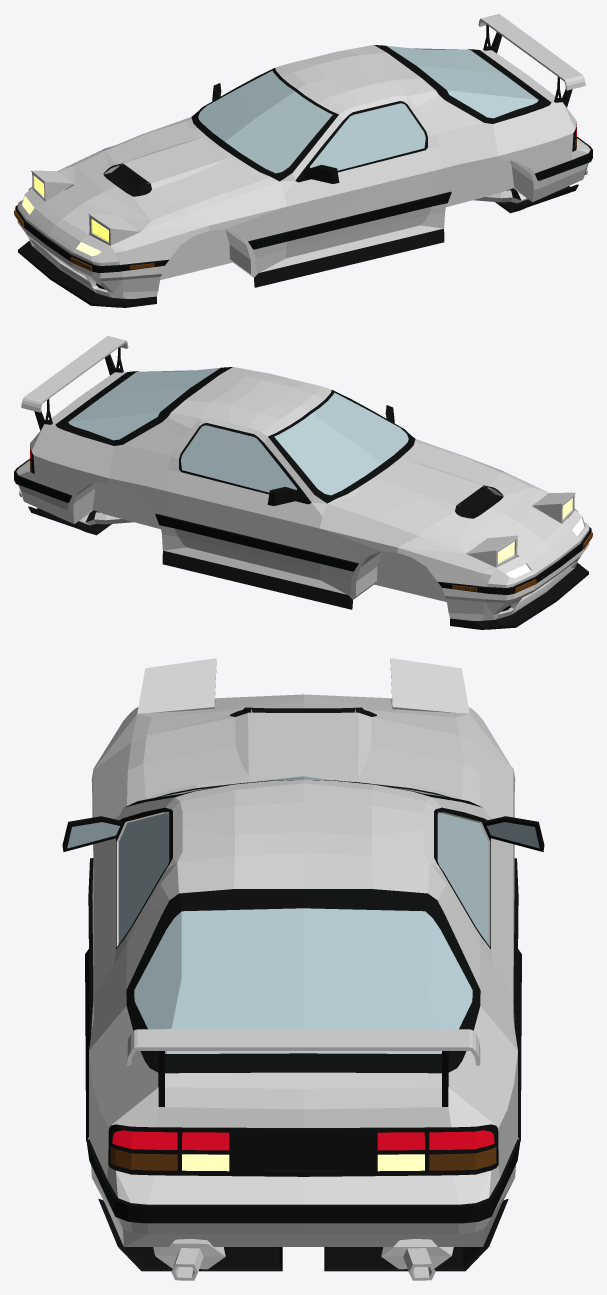
Rendered from Body.fbx.
The picture shows the model from 3 angles, top to bottom: view 1: azimuth 30°, elevation 25°; view 2: azimuth 150°, elevation 25°; view 3: azimuth 270°, elevation 25°; orthographic projection. The views are drawn at different scales.
Parts seen in each view (by area): view 1: Mazda Rx7 - FC.001, PopUp HeadLights.001; view 2: Mazda Rx7 - FC.001, PopUp HeadLights.001; view 3: Mazda Rx7 - FC.001, PopUp HeadLights.001.
Boxes of the visible parts, x1,y1,x2,y2 form: Mazda Rx7 - FC.001: (14, 14, 592, 307); PopUp HeadLights.001: (31, 170, 140, 245); Mazda Rx7 - FC.001: (14, 336, 592, 629); PopUp HeadLights.001: (466, 492, 575, 567); Mazda Rx7 - FC.001: (62, 693, 544, 1280); PopUp HeadLights.001: (137, 658, 469, 713).
Size of the model in its own units: 377 by 98.8 by 155.
